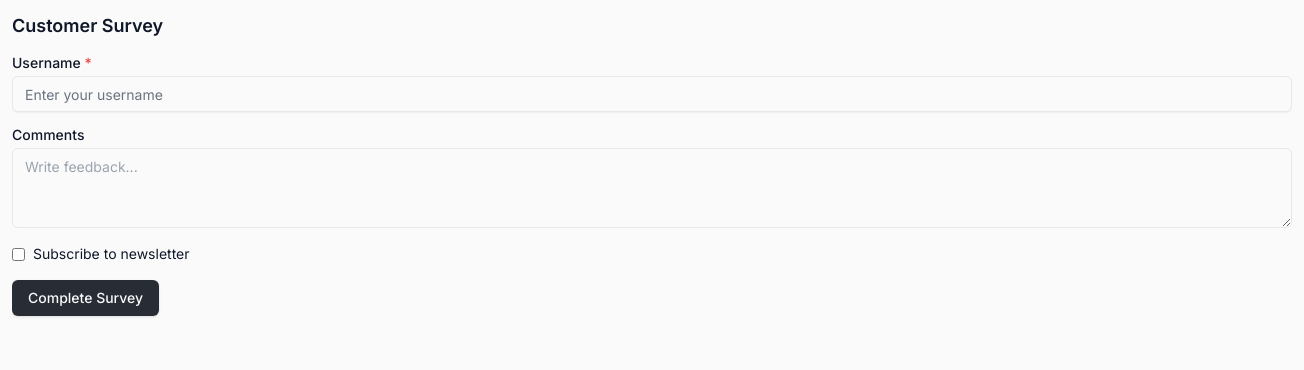
FormRenderer Component › validates required fields before submitting
Click the button "Complete Survey": (86, 298) left=12, top=280, right=159, bottom=316
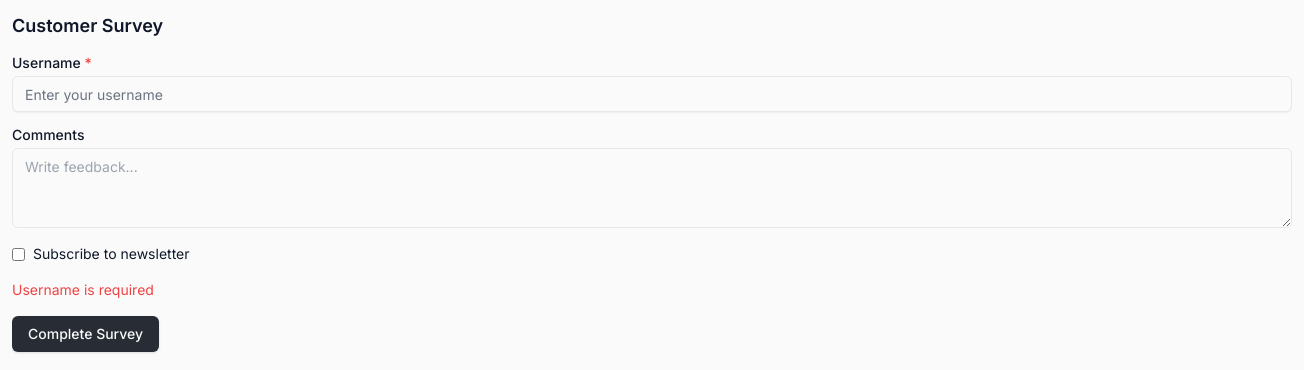
Expected: the text "Username is required" is shown, left=12, top=281, right=154, bottom=298
